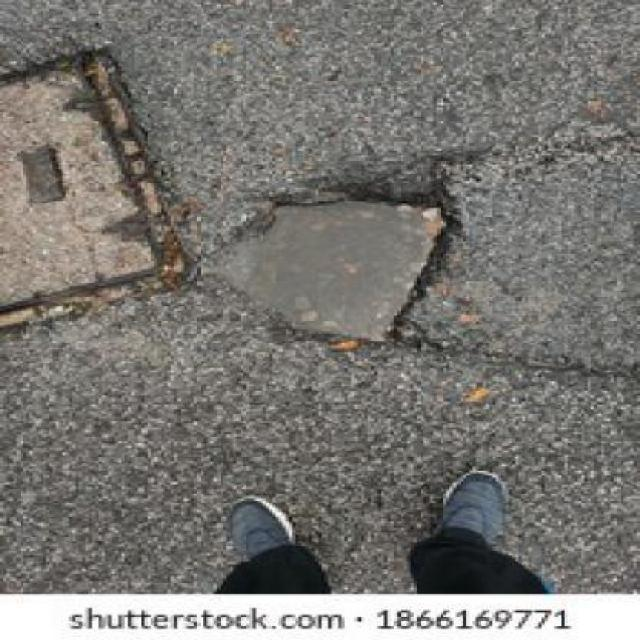Buraco: (191, 151, 470, 353)
